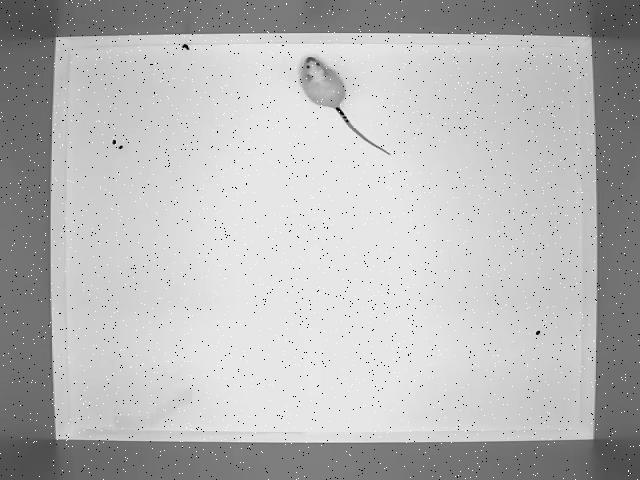Tikus: (289, 46, 393, 164)
